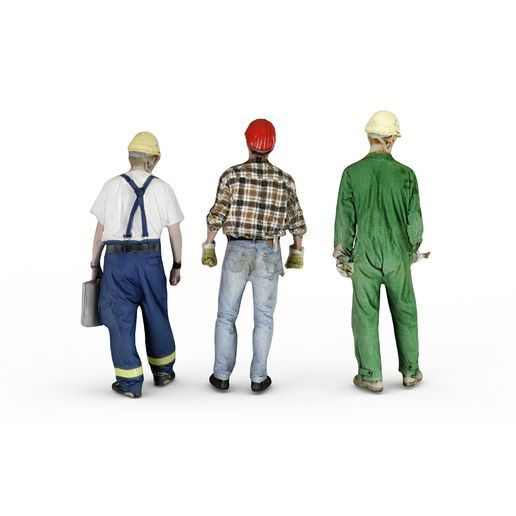safetyhat: (327, 104, 443, 399), (197, 107, 301, 395), (86, 122, 183, 406)
